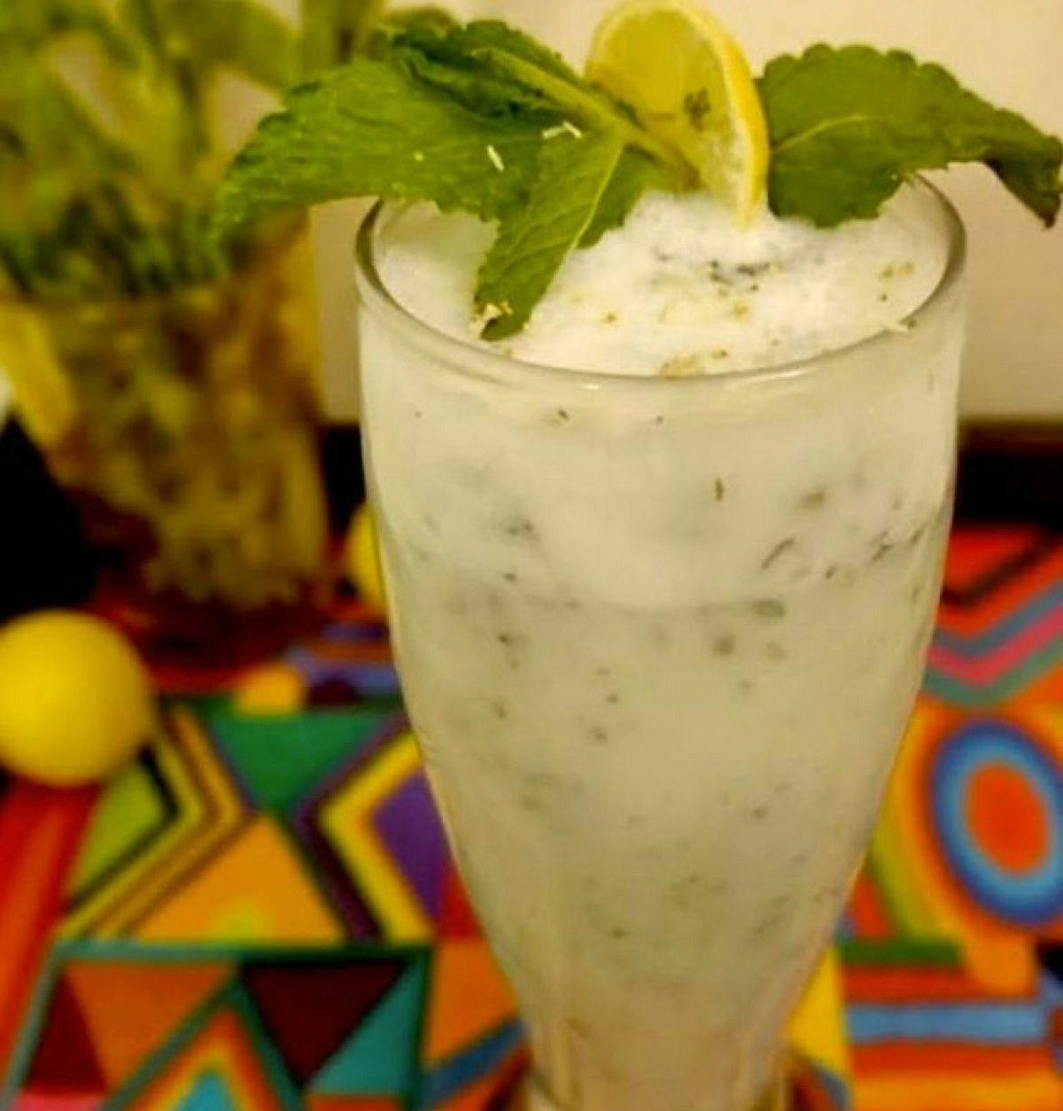Lassi: (361, 182, 964, 1111)
